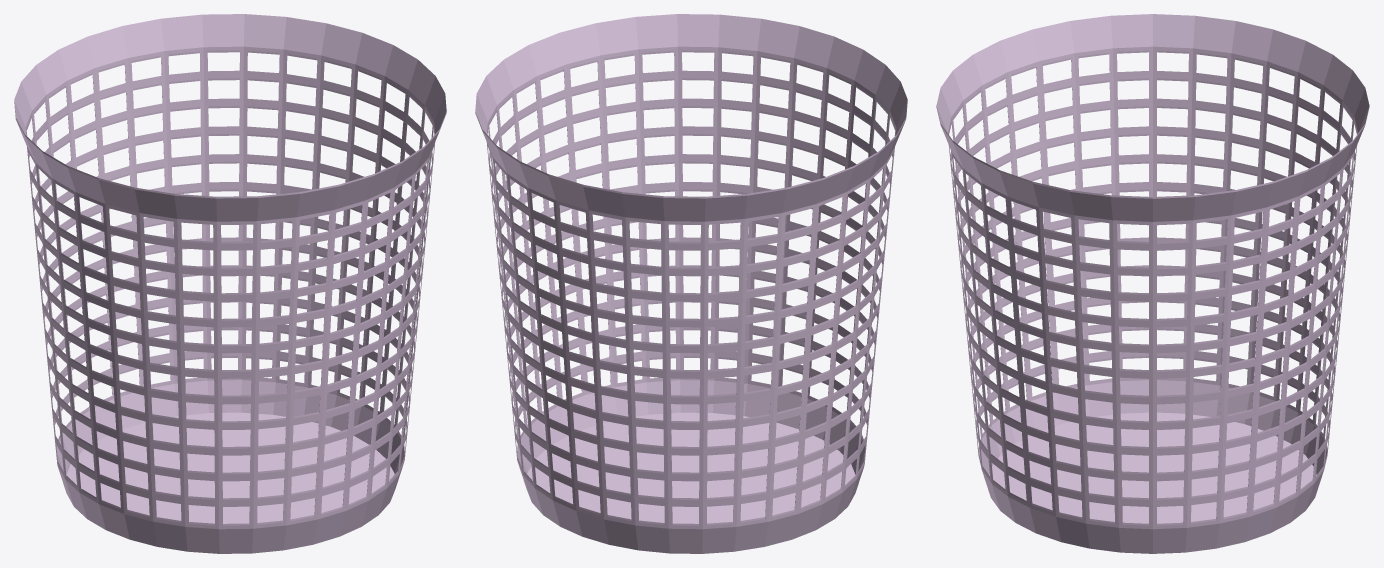
Rendered from Trash bin.fbx.
3 renders of one model, left to right at view 1: azimuth 30°, elevation 25°; view 2: azimuth 150°, elevation 25°; view 3: azimuth 270°, elevation 25°, orthographic.
Visible parts, largest first — view 1: Trash bin; view 2: Trash bin; view 3: Trash bin.
Part boxes in pixels (x1,y1,x2,y2): Trash bin: [14, 14, 446, 553]; Trash bin: [475, 14, 907, 553]; Trash bin: [936, 14, 1369, 553].
Size of the model in its own units: 208 by 201 by 208.
